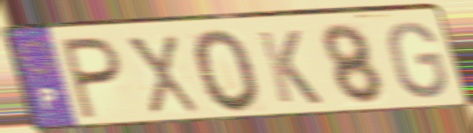8: (320, 20, 386, 108)
G: (386, 19, 452, 101)
K: (254, 28, 326, 107)
O: (190, 26, 264, 116)
P: (58, 34, 125, 123)
X: (121, 32, 204, 117)
